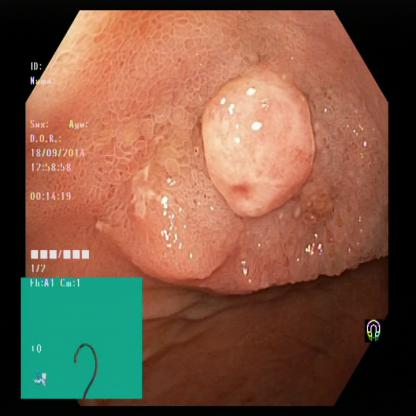Labels: (26, 60, 104, 274), (22, 277, 142, 399), (358, 310, 388, 349)
Polyps: (191, 60, 325, 224), (120, 176, 235, 287)
